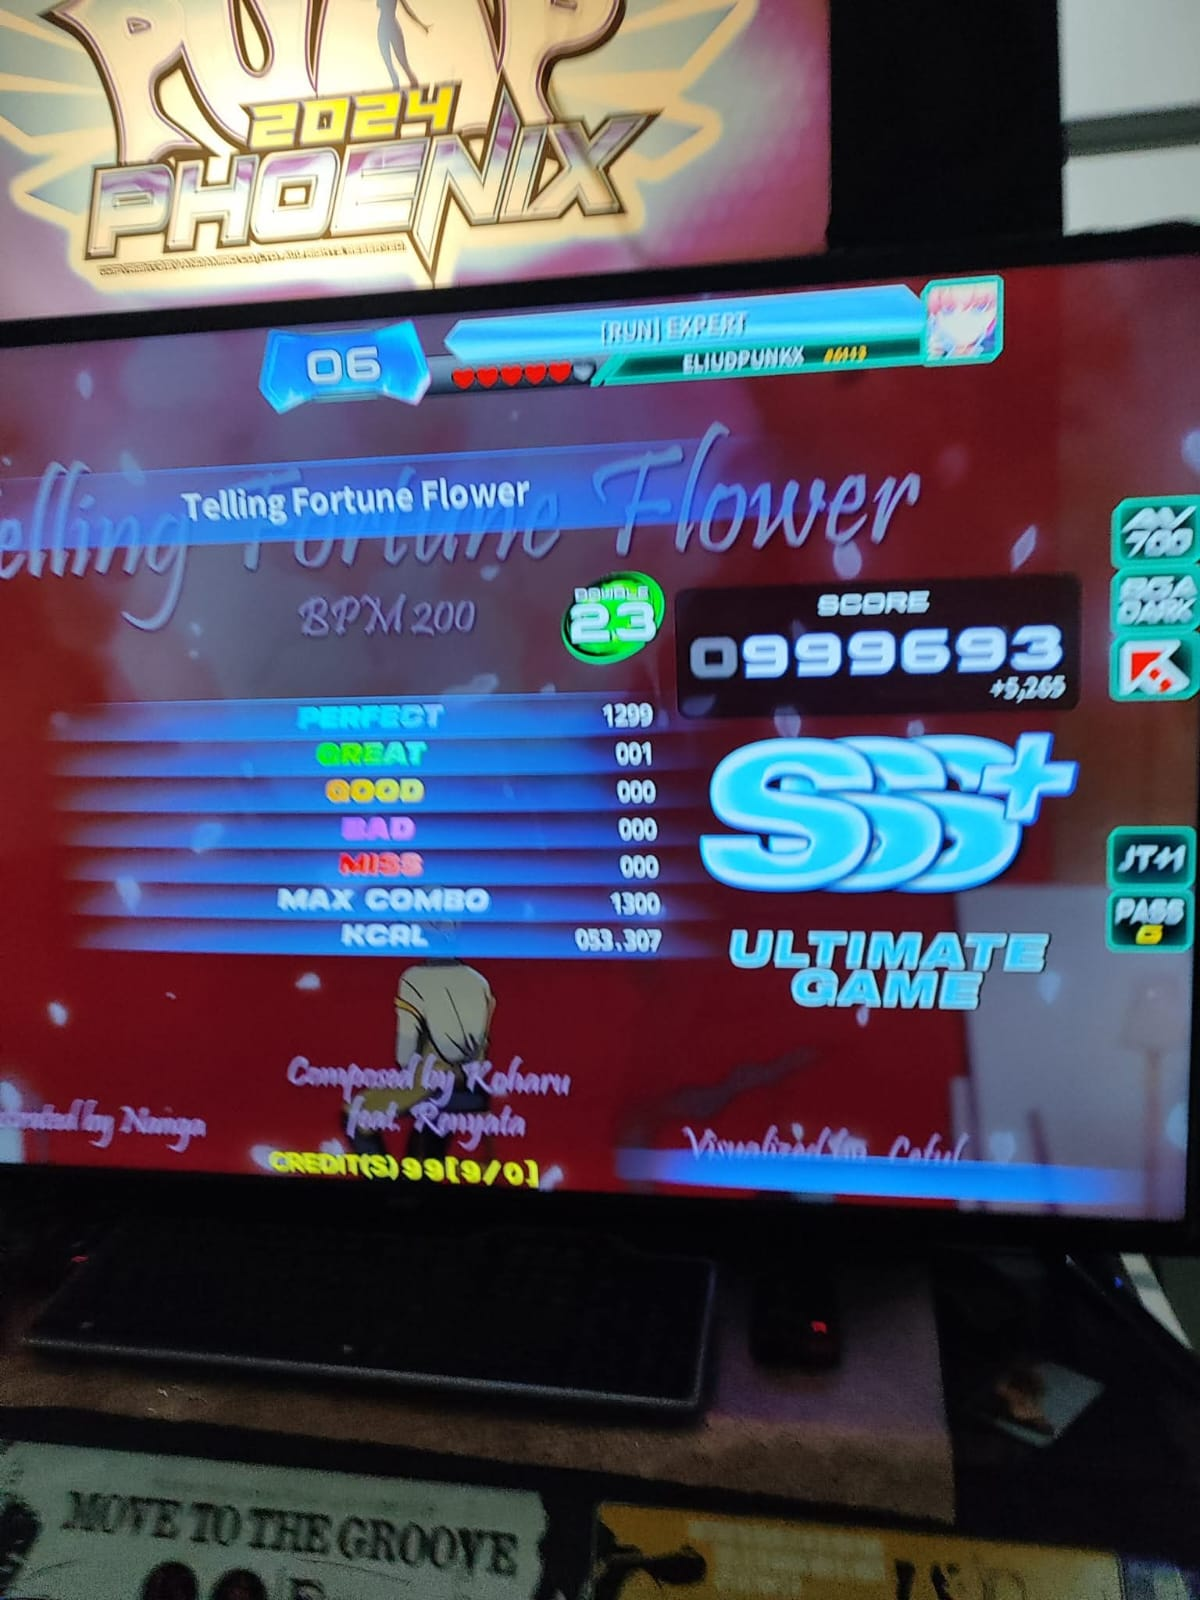difficulty: (551, 546, 647, 673)
fullscore: (262, 238, 1200, 1211)
rank: (681, 723, 1089, 925)
score: (664, 569, 1073, 675)
song_name: (125, 442, 628, 538)
